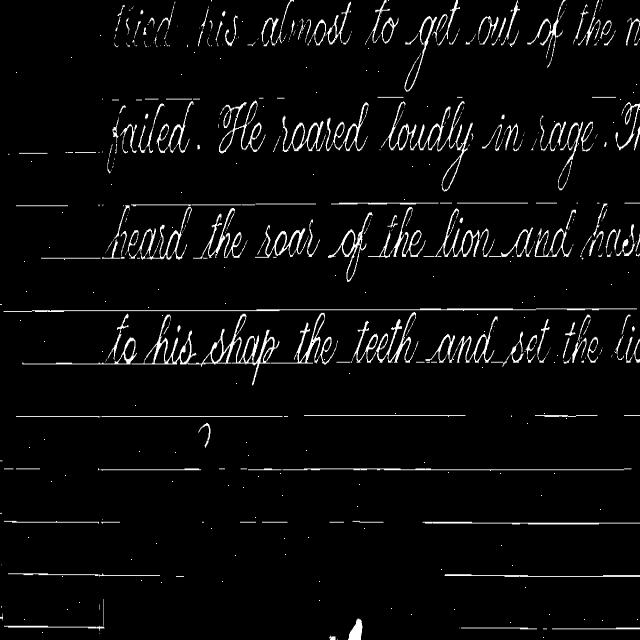hand: (348, 619, 362, 639), (328, 636, 336, 639)
noise: (2, 307, 638, 316), (214, 465, 632, 473), (421, 518, 640, 527), (444, 569, 640, 579), (460, 625, 640, 635), (21, 359, 258, 366), (16, 414, 288, 420), (122, 203, 317, 209), (4, 620, 104, 631), (7, 571, 162, 578), (303, 411, 466, 416), (330, 202, 453, 208), (3, 518, 121, 524), (97, 467, 204, 473), (259, 358, 350, 364), (534, 411, 598, 419), (16, 150, 100, 156), (40, 256, 108, 261), (328, 519, 386, 524), (198, 423, 210, 447), (2, 467, 42, 472), (239, 519, 289, 523), (98, 598, 104, 628), (454, 202, 529, 204), (163, 98, 200, 102), (621, 411, 640, 417), (376, 95, 404, 99), (16, 204, 68, 206), (134, 97, 160, 100), (591, 95, 616, 98), (368, 252, 380, 257), (622, 202, 640, 205), (536, 202, 558, 204), (456, 95, 464, 100), (424, 253, 434, 257), (275, 97, 285, 99), (258, 97, 266, 99), (111, 99, 120, 100), (596, 202, 600, 204)
not-noise: (114, 0, 640, 91), (381, 101, 474, 191), (108, 101, 193, 171), (200, 314, 279, 376), (273, 102, 369, 152), (532, 116, 596, 189), (106, 205, 192, 259), (500, 209, 576, 257), (350, 312, 418, 363), (425, 316, 498, 363), (580, 204, 640, 258), (434, 208, 499, 257), (328, 212, 371, 282), (142, 315, 196, 364), (200, 207, 248, 258), (256, 220, 319, 258), (219, 100, 264, 152), (380, 207, 425, 256), (294, 313, 337, 364), (503, 320, 550, 364), (563, 314, 602, 363), (106, 314, 138, 364), (220, 101, 258, 139), (488, 114, 523, 151), (614, 314, 640, 362), (616, 101, 640, 149), (491, 123, 520, 149), (250, 123, 266, 146), (198, 144, 200, 149), (604, 141, 606, 146)
